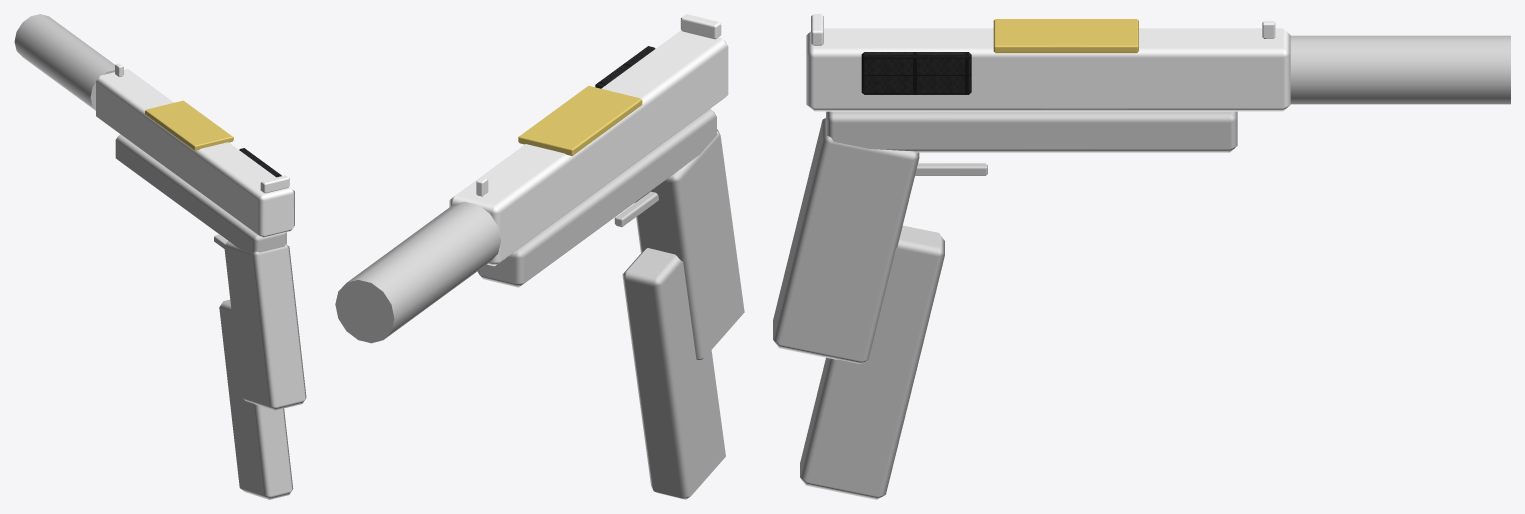
File: hornet.glb
3 renders of one model, left to right at view 1: azimuth 30°, elevation 25°; view 2: azimuth 150°, elevation 25°; view 3: azimuth 270°, elevation 25°, orthographic. The views are drawn at different scales.
Size of the model in its own units: 0.0335 by 0.236 by 0.3352.
Materials: 4 (1 with a texture image).
